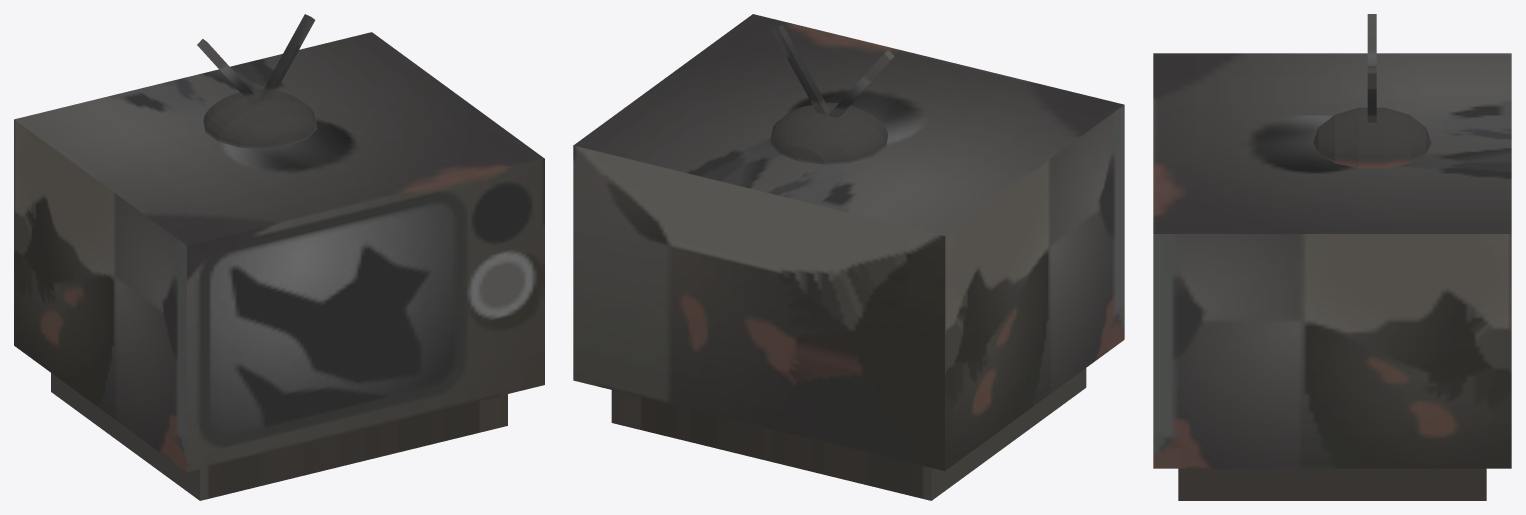
File: Building_AncientTV.glb
3 views of the same model, side by side, from view 1: azimuth 30°, elevation 25°; view 2: azimuth 150°, elevation 25°; view 3: azimuth 270°, elevation 25° (orthographic). The views are drawn at different scales.
Parts seen in each view (by area): view 1: AncientTV; view 2: AncientTV; view 3: AncientTV.
Part boxes in pixels (x1,y1,x2,y2): AncientTV: (14, 14, 544, 500); AncientTV: (573, 14, 1124, 500); AncientTV: (1153, 14, 1511, 500).
Bounding box in the file's own units: 0.86 × 0.8455 × 0.72.
1 material, 1 textured.
